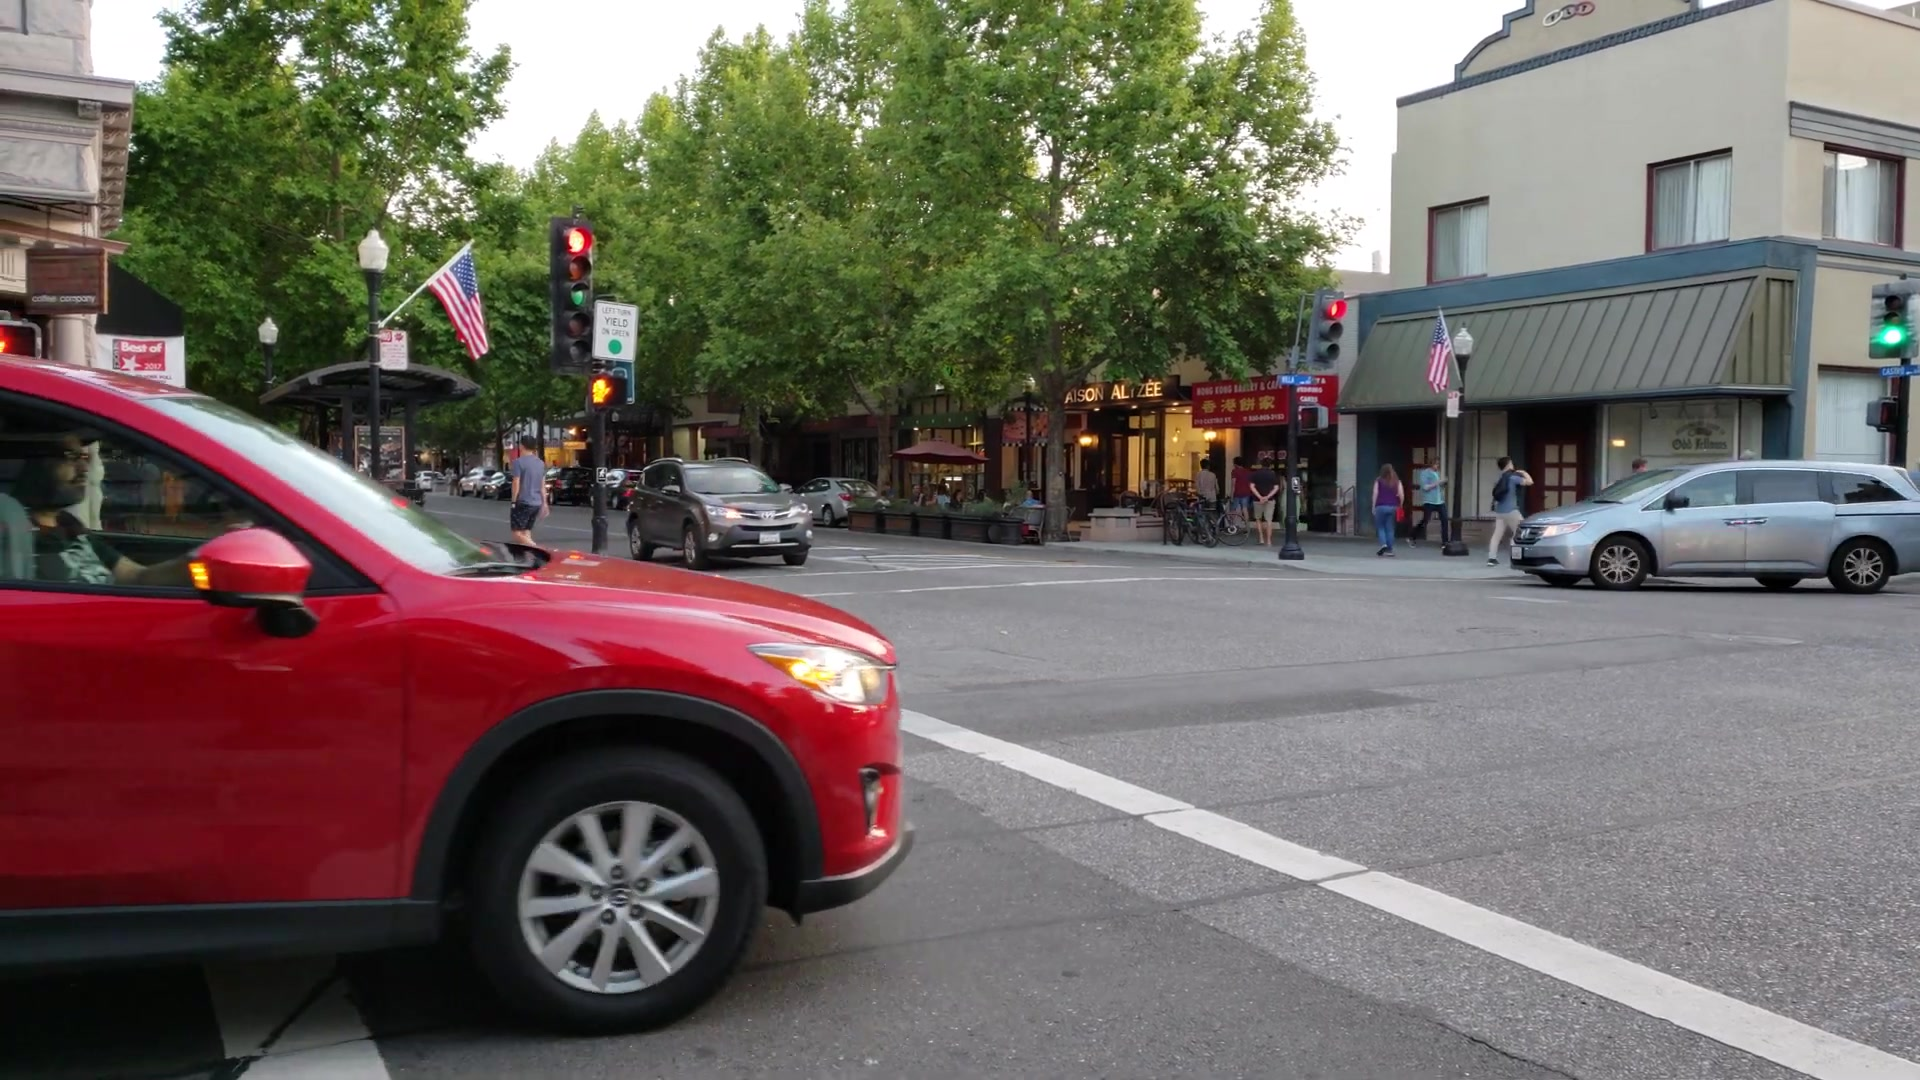vehicle: (1, 351, 918, 1036), (1509, 458, 1920, 599), (624, 450, 812, 572)
